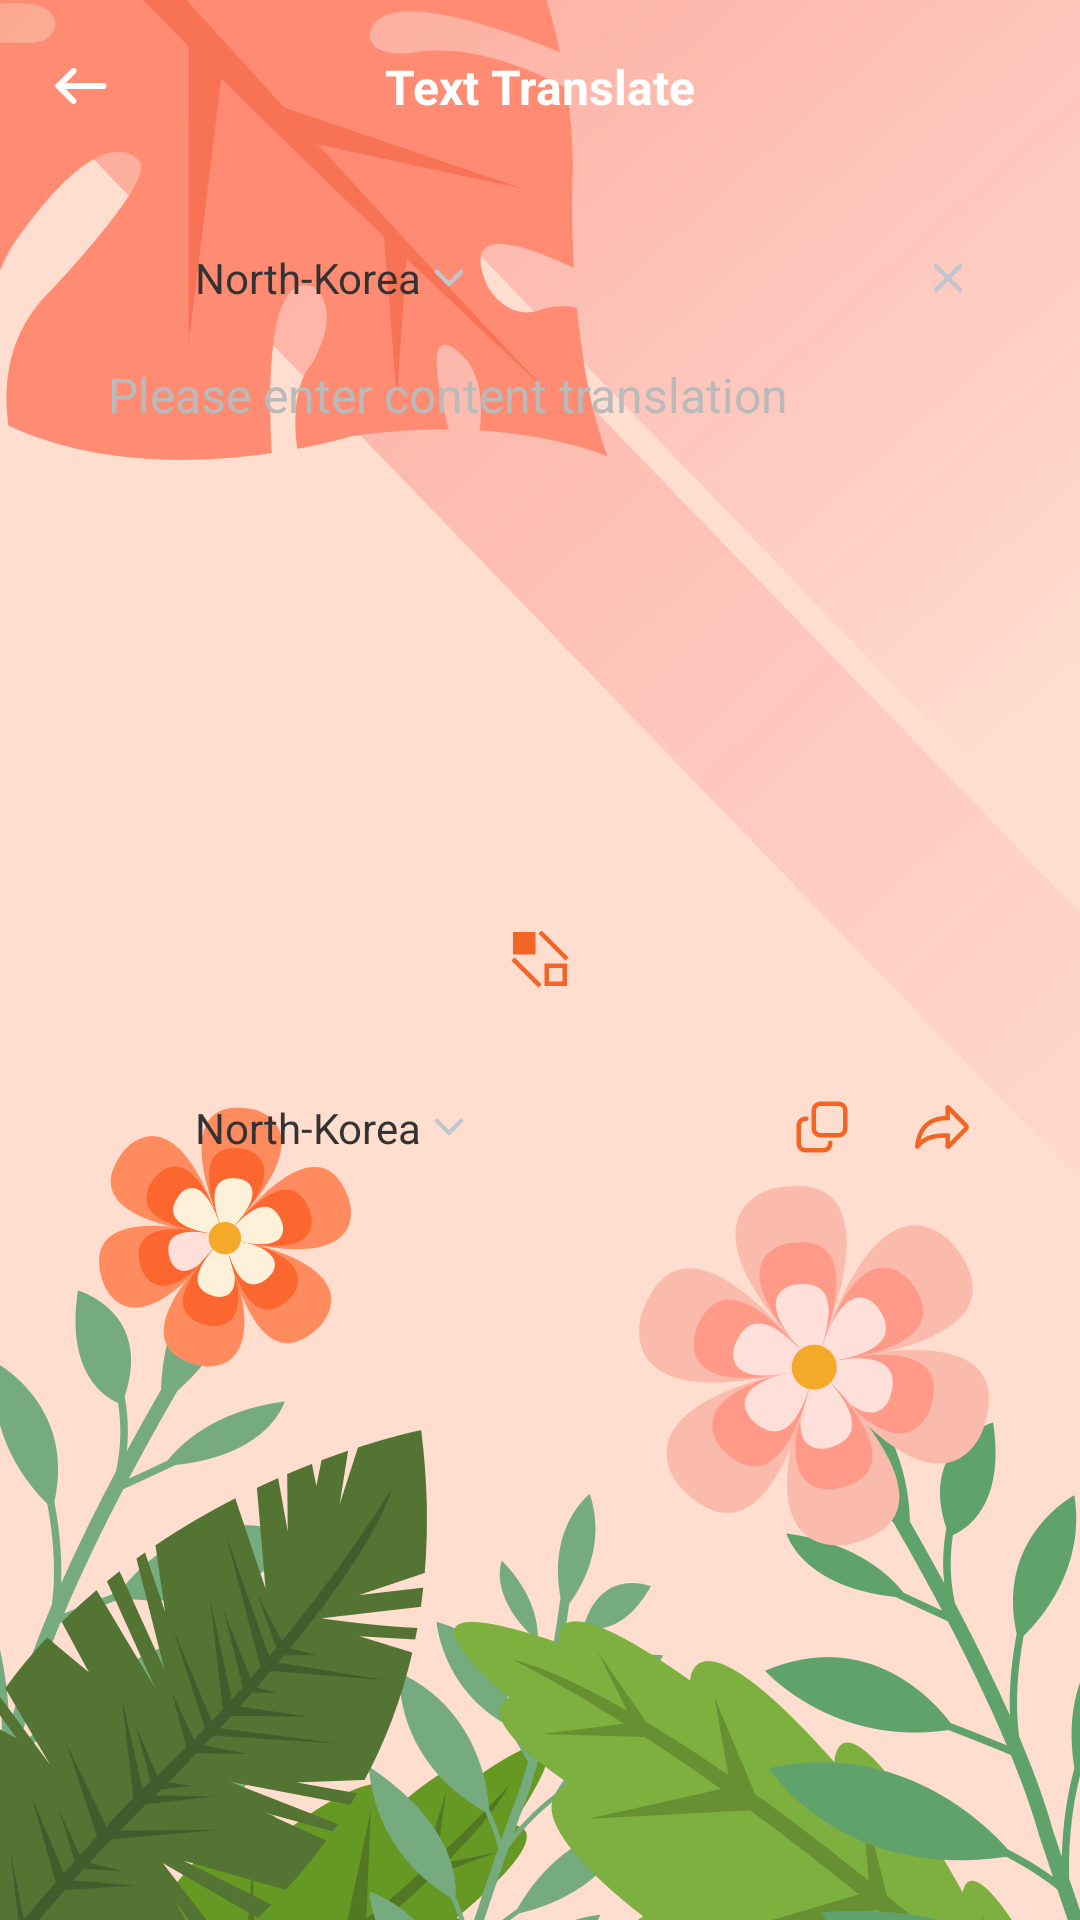

Named icons in this screenshot (1080*1920) and their centers, (x,y):
back: (81,86)
cancel: (948,278)
change: (540,959)
down: (445,282), (449,1127)
share: (942,1127)
